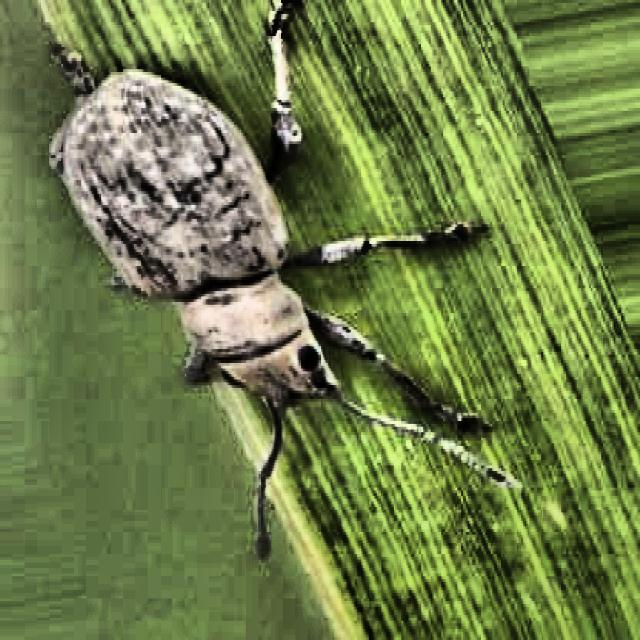Stink bug: (54, 56, 376, 534)
